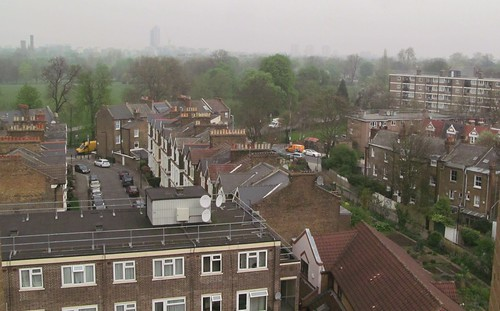building: (1, 192, 294, 311), (142, 121, 272, 206), (373, 129, 438, 213), (387, 68, 500, 116), (444, 143, 500, 223), (102, 109, 151, 164)
sky: (1, 1, 500, 46)
vegetation: (1, 49, 386, 107)
